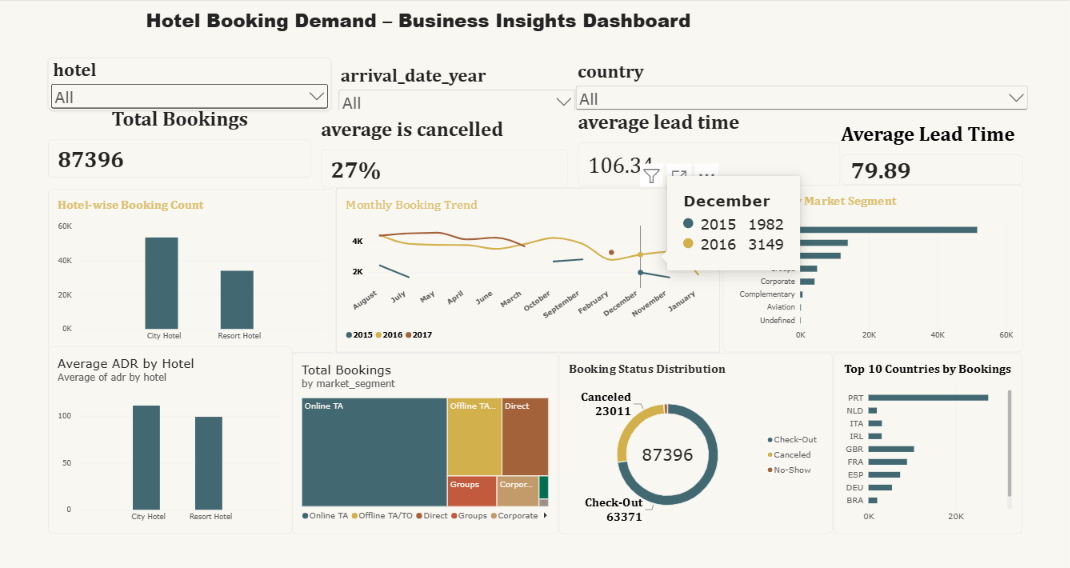

The dashboard page shown, as its layout file describes it:
{"tool":"powerbi","page":{"name":"Page 1","canvas":[1920,1080],"ordinal":0},"visuals":[{"type":"textbox","box":[10,0,280,280],"z":0},{"type":"textbox","box":[10,580,280,280],"z":1000},{"type":"textbox","title":"Hotel Booking Demand – Business Insights Dashboard","box":[288.3,10.4,1193.8,86.4],"z":2000},{"type":"slicer","fields":{"Values":["cleaned_hotel_bookings.hotel"]},"box":[118.2,98.7,491.5,91.5],"z":3000},{"type":"slicer","fields":{"Values":["cleaned_hotel_bookings.arrival_date_year"]},"box":[618.2,109.1,419.5,80.5],"z":4000},{"type":"slicer","fields":{"Values":["cleaned_hotel_bookings.country"]},"box":[1028.6,102.6,793.5,87],"z":5000},{"type":"cardVisual","title":"Total Bookings","fields":{"Data":["cleaned_hotel_bookings.Total Bookings"]},"box":[118.2,183.1,457.1,123.4],"z":6000},{"type":"cardVisual","title":"average is cancelled","fields":{"Data":["Avg(cleaned_hotel_bookings.is_canceled)"]},"box":[590.9,201.3,428.6,123.4],"z":7000},{"type":"cardVisual","title":"average lead time","fields":{"Data":["Avg(cleaned_hotel_bookings.adr)"]},"box":[1037.7,189.6,455.8,133.8],"z":8000},{"type":"cardVisual","title":"Average Lead Time","fields":{"Data":["Avg(cleaned_hotel_bookings.lead_time)"]},"box":[1493.5,209.1,316.9,109.1],"z":9000},{"type":"clusteredColumnChart","title":"Hotel-wise Booking Count","fields":{"Category":["cleaned_hotel_bookings.hotel"],"Y":["cleaned_hotel_bookings.Total Bookings"]},"box":[118,326,500,284],"z":10000},{"type":"lineChart","title":"Monthly Booking Trend","fields":{"Category":["cleaned_hotel_bookings.arrival_date_month"],"Series":["cleaned_hotel_bookings.arrival_date_year"],"Y":["cleaned_hotel_bookings.Total Bookings"]},"box":[618,324,666,286],"z":11000},{"type":"clusteredBarChart","title":"Bookings by Market Segment","fields":{"Category":["cleaned_hotel_bookings.market_segment"],"Y":["cleaned_hotel_bookings.Total Bookings"]},"box":[1290,320,520,290],"z":12000},{"type":"clusteredBarChart","title":"Top 10 Countries by Bookings","fields":{"Category":["cleaned_hotel_bookings.country"],"Y":["cleaned_hotel_bookings.Total Bookings"]},"box":[1482,610,326,314],"z":13000},{"type":"donutChart","title":"Booking Status Distribution","fields":{"Category":["cleaned_hotel_bookings.reservation_status"],"Y":["cleaned_hotel_bookings.Total Bookings"]},"box":[1004,610,474,314],"z":14000},{"type":"clusteredColumnChart","title":"Average ADR by Hotel","fields":{"Category":["cleaned_hotel_bookings.hotel"],"Y":["Avg(cleaned_hotel_bookings.adr)"]},"box":[118,600,424,324],"z":15000},{"type":"treemap","fields":{"Group":["cleaned_hotel_bookings.market_segment"],"Values":["cleaned_hotel_bookings.Total Bookings"]},"box":[542,610,462,314],"z":16000}]}

Visuals, with their boxes on the page's 1920x1080 design canvas (x1, y1, x2, y2). These are canvas units, not pixel positions in the 1070x568 screenshot, which may show the page scaled, cropped or inside an application window:
textbox: 10,0,290,280
textbox: 10,580,290,860
"Hotel Booking Demand – Business Insights Dashboard" textbox: 288,10,1482,97
slicer - cleaned_hotel_bookings.hotel: 118,99,610,190
slicer - cleaned_hotel_bookings.arrival_date_year: 618,109,1038,190
slicer - cleaned_hotel_bookings.country: 1029,103,1822,190
"Total Bookings" cardVisual: 118,183,575,306
"average is cancelled" cardVisual: 591,201,1020,325
"average lead time" cardVisual: 1038,190,1494,323
"Average Lead Time" cardVisual: 1494,209,1810,318
"Hotel-wise Booking Count" clusteredColumnChart: 118,326,618,610
"Monthly Booking Trend" lineChart: 618,324,1284,610
"Bookings by Market Segment" clusteredBarChart: 1290,320,1810,610
"Top 10 Countries by Bookings" clusteredBarChart: 1482,610,1808,924
"Booking Status Distribution" donutChart: 1004,610,1478,924
"Average ADR by Hotel" clusteredColumnChart: 118,600,542,924
treemap - cleaned_hotel_bookings.market_segment x cleaned_hotel_bookings.Total Bookings: 542,610,1004,924
